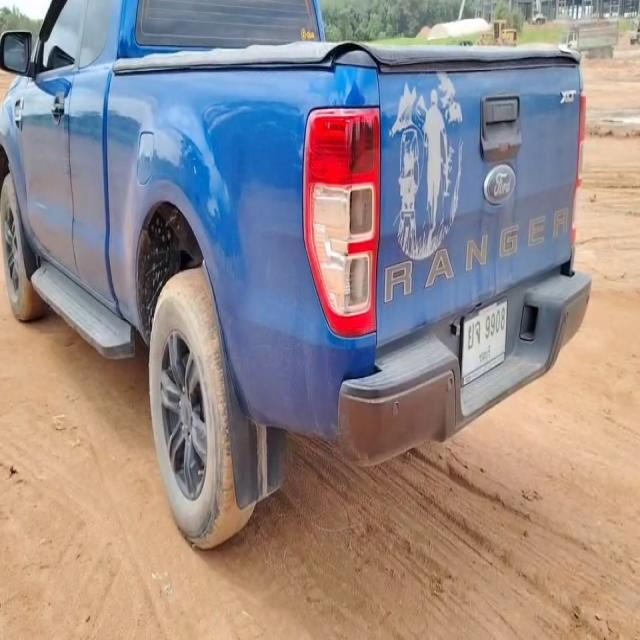Digit: (484, 307, 506, 341)
Licenseplate: (462, 295, 509, 385)
Provincename: (476, 346, 495, 366)
Thaichar: (466, 320, 481, 350)
